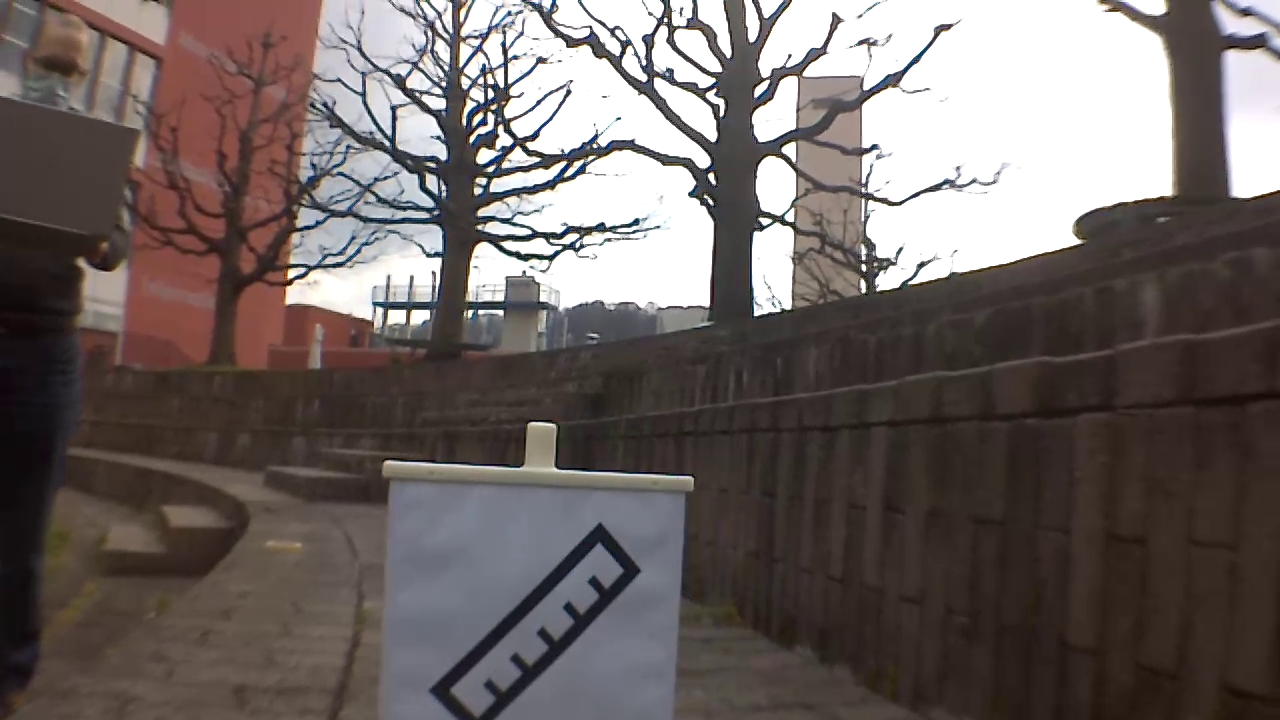ruler: (425, 520, 649, 720)
